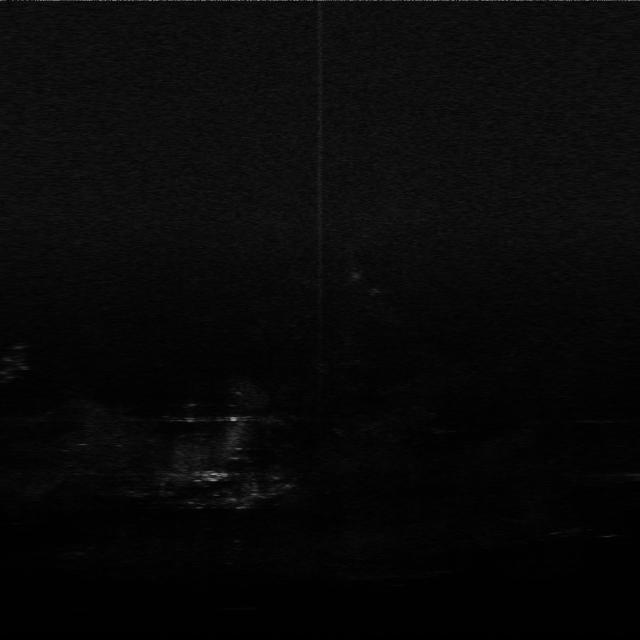rov: (188, 467, 233, 490)
